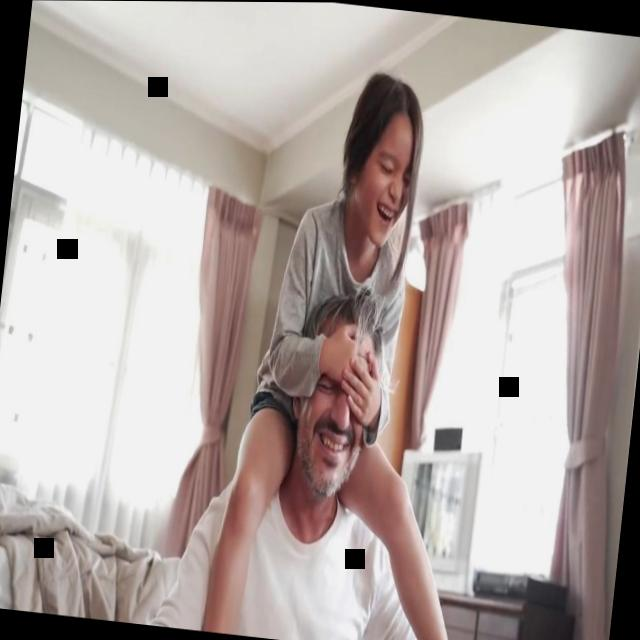NO-Mask: (291, 323, 378, 503), (351, 116, 419, 248)
